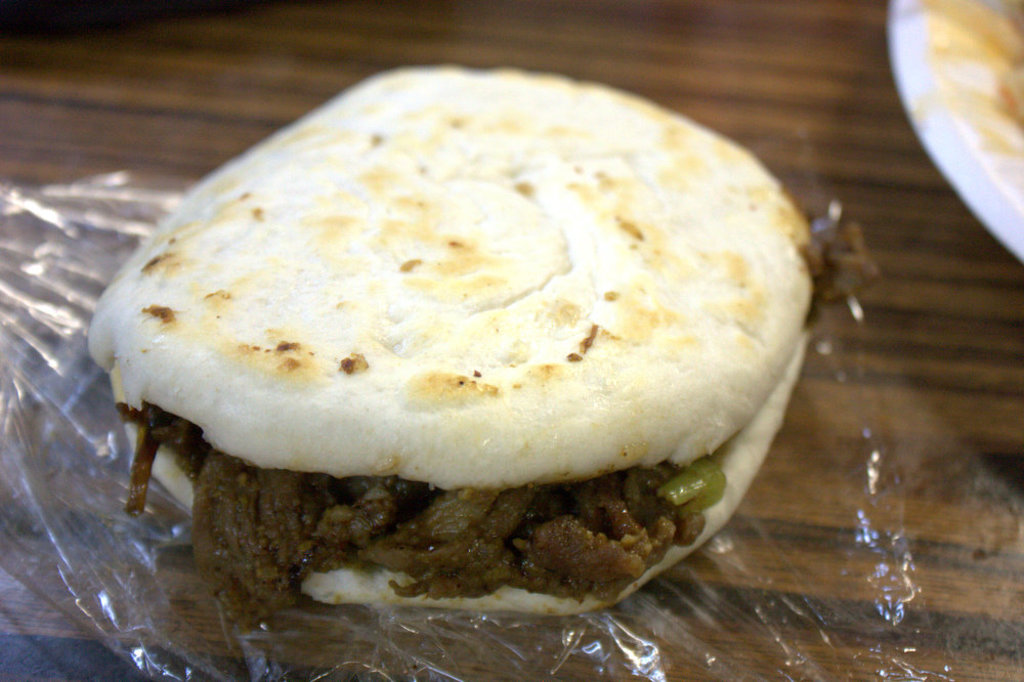sandwich: (87, 67, 817, 608)
